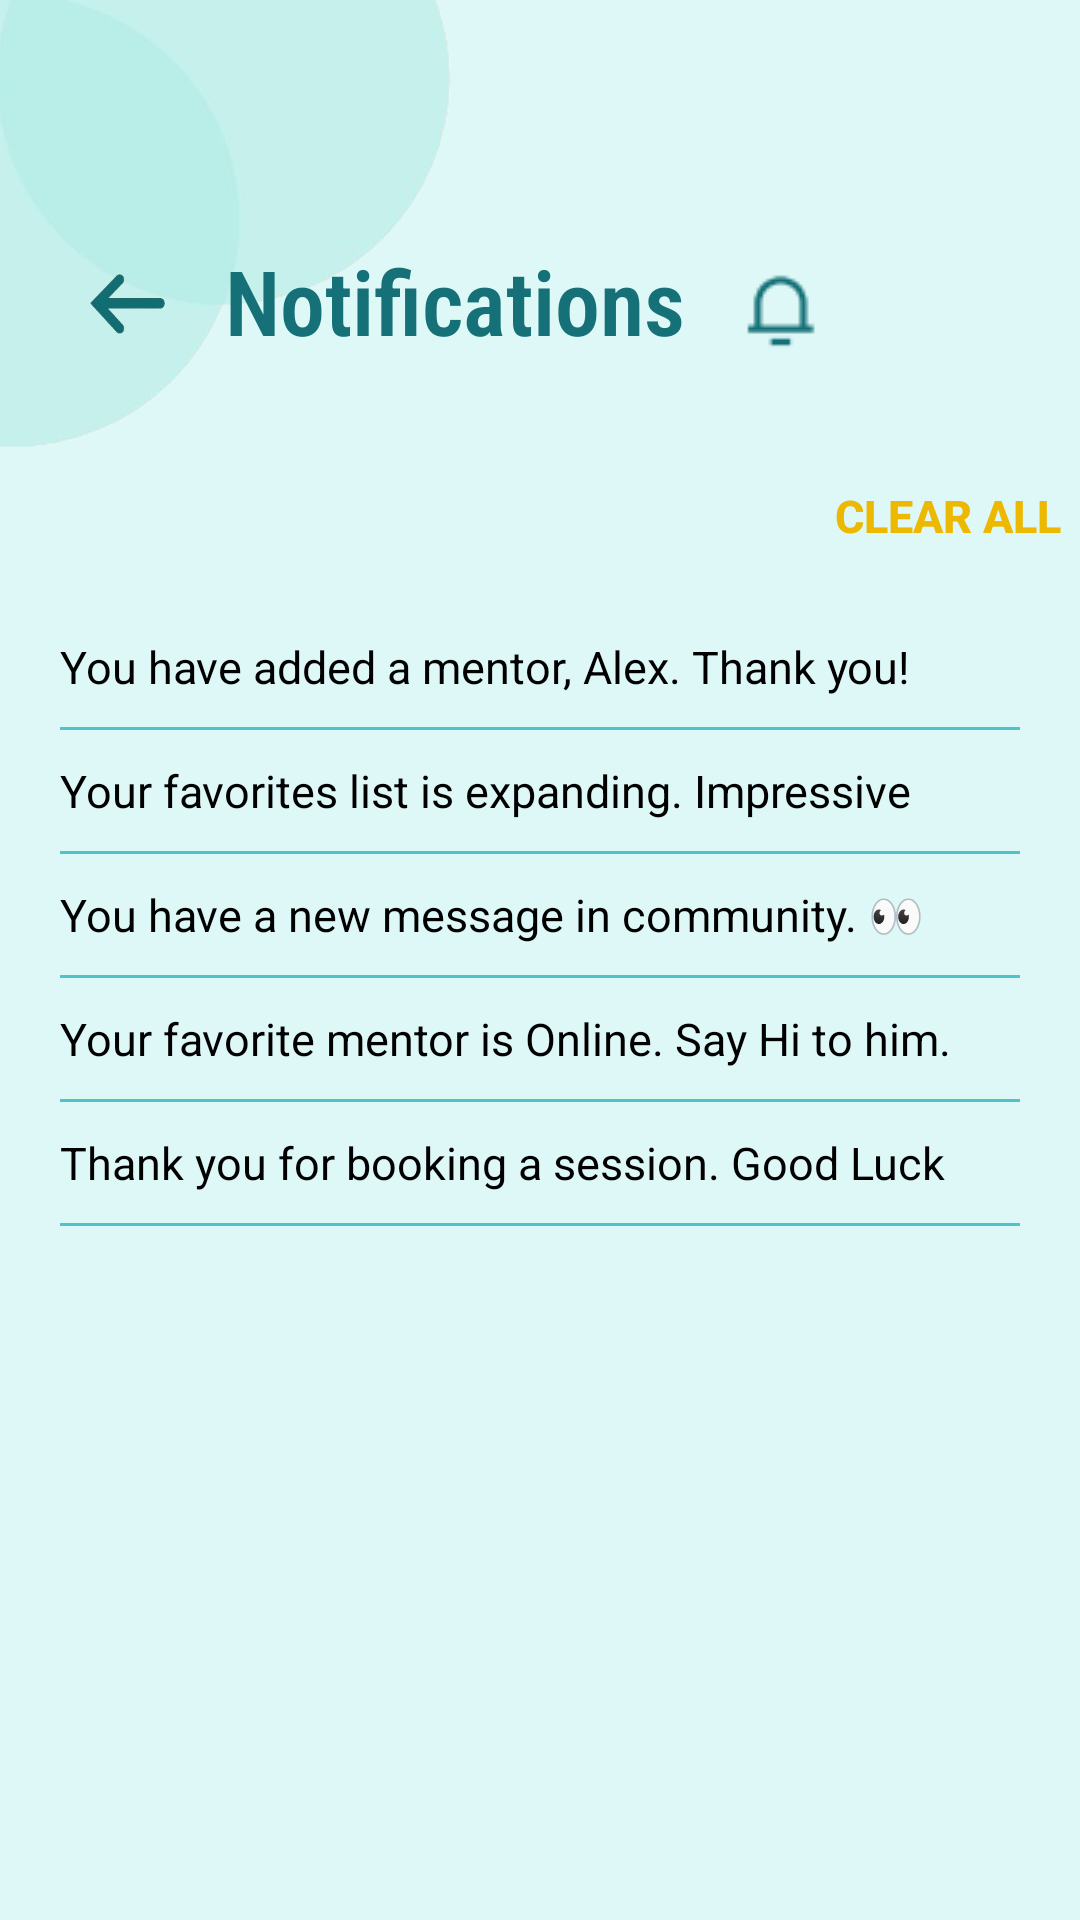

Icon click points for this 1080×1920 phone screenshot, format point (x, y):
back arrow: point (127, 304)
notification page: point (781, 310)
